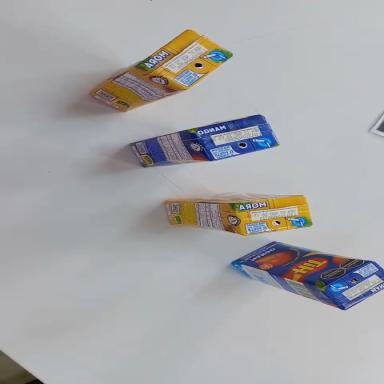HIT-MANGO: (228, 234, 384, 317), (129, 110, 280, 179)
HIT-MORA: (85, 17, 236, 131), (164, 194, 312, 237)
cara_F: (232, 234, 375, 300)
